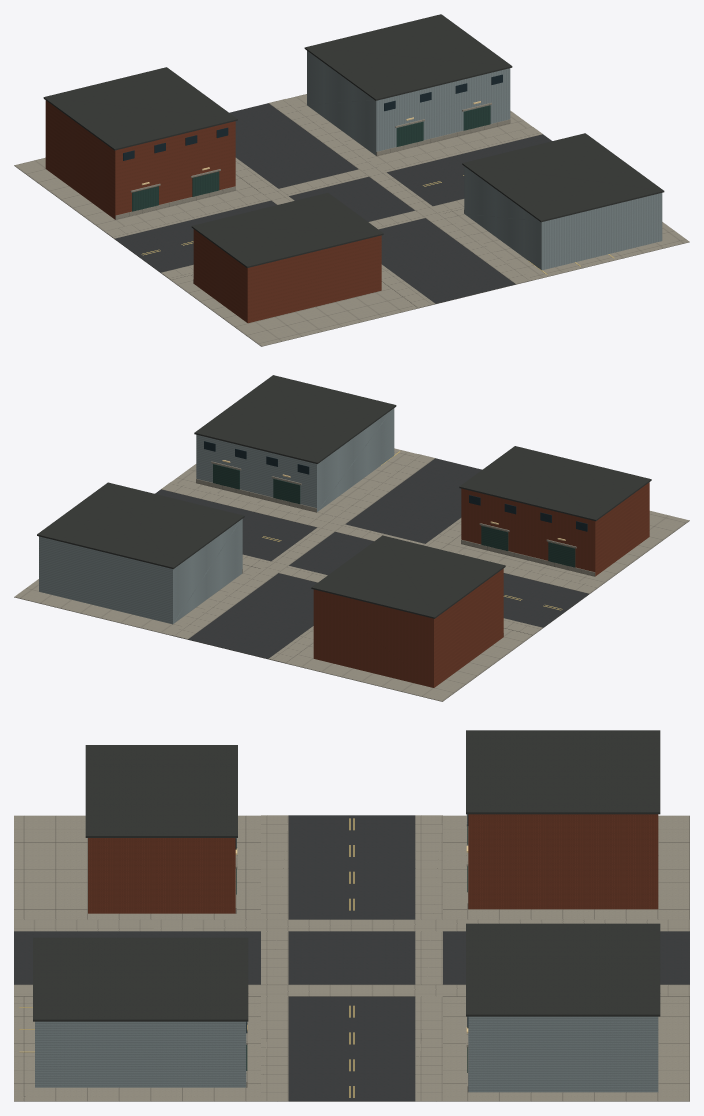
Rendered from industrial_0_1.glb.
3 views of the same model, one above another, from view 1: azimuth 30°, elevation 25°; view 2: azimuth 150°, elevation 25°; view 3: azimuth 270°, elevation 25° (orthographic). The views are drawn at different scales.
Visible parts, largest first — view 1: Motor Works / North south street, Motor Works / Yard paving, Motor Works / Building 0 shell, Motor Works / Building 2 shell, Motor Works / Building 1 roof, Motor Works / Building 3 roof, Motor Works / Building 3 shell, Motor Works / Building 1 shell, Motor Works / Building 0 roof, Motor Works / Building 2 roof, Motor Works / East west street, Motor Works / Street walk X 1 (+9 smaller); view 2: Motor Works / North south street, Motor Works / Building 0 shell, Motor Works / Yard paving, Motor Works / Building 1 shell, Motor Works / Building 1 roof, Motor Works / Building 3 roof, Motor Works / Building 0 roof, Motor Works / Building 2 shell, Motor Works / Building 2 roof, Motor Works / Building 3 shell, Motor Works / East west street, Motor Works / Street walk X 1 (+9 smaller); view 3: Motor Works / Yard paving, Motor Works / East west street, Motor Works / Building 3 roof, Motor Works / Building 0 shell, Motor Works / Building 1 roof, Motor Works / Building 0 roof, Motor Works / Building 1 shell, Motor Works / Building 2 roof, Motor Works / Building 3 shell, Motor Works / North south street, Motor Works / Building 2 shell, Motor Works / Street walk Z -1 (+3 smaller).
Boxes of the visible parts, x1,y1,x2,y2 form: Motor Works / North south street: (229, 103, 515, 303); Motor Works / Yard paving: (14, 94, 689, 346); Motor Works / Building 0 shell: (45, 100, 235, 219); Motor Works / Building 2 shell: (193, 229, 381, 323); Motor Works / Building 1 roof: (304, 14, 512, 100); Motor Works / Building 3 roof: (462, 133, 664, 222); Motor Works / Building 3 shell: (464, 166, 662, 270); Motor Works / Building 1 shell: (307, 51, 510, 155); Motor Works / Building 0 roof: (43, 67, 237, 150); Motor Works / Building 2 roof: (191, 193, 383, 267); Motor Works / East west street: (115, 134, 552, 272); Motor Works / Street walk X 1: (268, 99, 532, 284); Motor Works / North south street: (188, 458, 481, 658); Motor Works / Building 0 shell: (313, 568, 503, 687); Motor Works / Yard paving: (14, 448, 689, 701); Motor Works / Building 1 shell: (39, 519, 242, 624); Motor Works / Building 1 roof: (37, 482, 244, 569); Motor Works / Building 3 roof: (194, 375, 396, 463); Motor Works / Building 0 roof: (311, 535, 505, 618); Motor Works / Building 2 shell: (461, 482, 649, 576); Motor Works / Building 2 roof: (459, 446, 651, 521); Motor Works / Building 3 shell: (196, 408, 394, 511); Motor Works / East west street: (155, 489, 588, 627); Motor Works / Street walk X 1: (171, 454, 435, 639); Motor Works / Yard paving: (14, 815, 689, 1101); Motor Works / East west street: (288, 815, 415, 1101); Motor Works / Building 3 roof: (33, 937, 248, 1021); Motor Works / Building 0 shell: (468, 814, 658, 909); Motor Works / Building 1 roof: (466, 923, 660, 1016); Motor Works / Building 0 roof: (466, 730, 660, 814); Motor Works / Building 1 shell: (468, 1016, 658, 1092); Motor Works / Building 2 roof: (85, 745, 237, 837); Motor Works / Building 3 shell: (35, 1021, 246, 1087); Motor Works / North south street: (14, 931, 689, 984); Motor Works / Building 2 shell: (88, 838, 235, 913); Motor Works / Street walk Z -1: (415, 815, 442, 1100).
Size of the model in its own units: 64 by 10.26 by 64.
9 materials, 9 textured.
